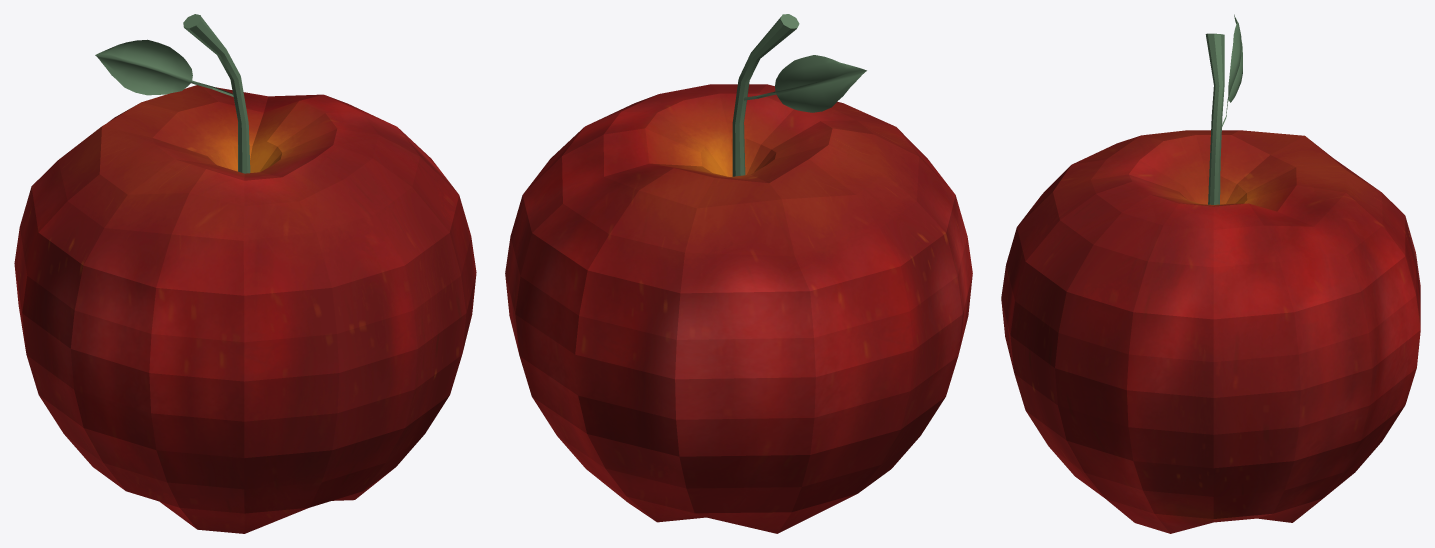
File: Apple.fbx
3 views of the same model, side by side, from view 1: azimuth 30°, elevation 25°; view 2: azimuth 150°, elevation 25°; view 3: azimuth 270°, elevation 25° (orthographic). The views are drawn at different scales.
Parts seen in each view (by area): view 1: Apple, pPlane3, pCylinder1; view 2: Apple, pPlane3, pCylinder1; view 3: Apple, pCylinder1, pPlane3.
Part boxes in pixels (box(x1,y1,x2,y2)): Apple: box(14, 85, 476, 533); pPlane3: box(95, 39, 233, 96); pCylinder1: box(183, 14, 250, 173); Apple: box(505, 84, 972, 533); pPlane3: box(743, 55, 866, 112); pCylinder1: box(732, 14, 799, 176); Apple: box(1001, 130, 1420, 533); pCylinder1: box(1205, 33, 1224, 204); pPlane3: box(1222, 14, 1242, 126).
Size of the model in its own units: 0.8209 by 0.9573 by 0.8145.
2 materials, 1 textured.
